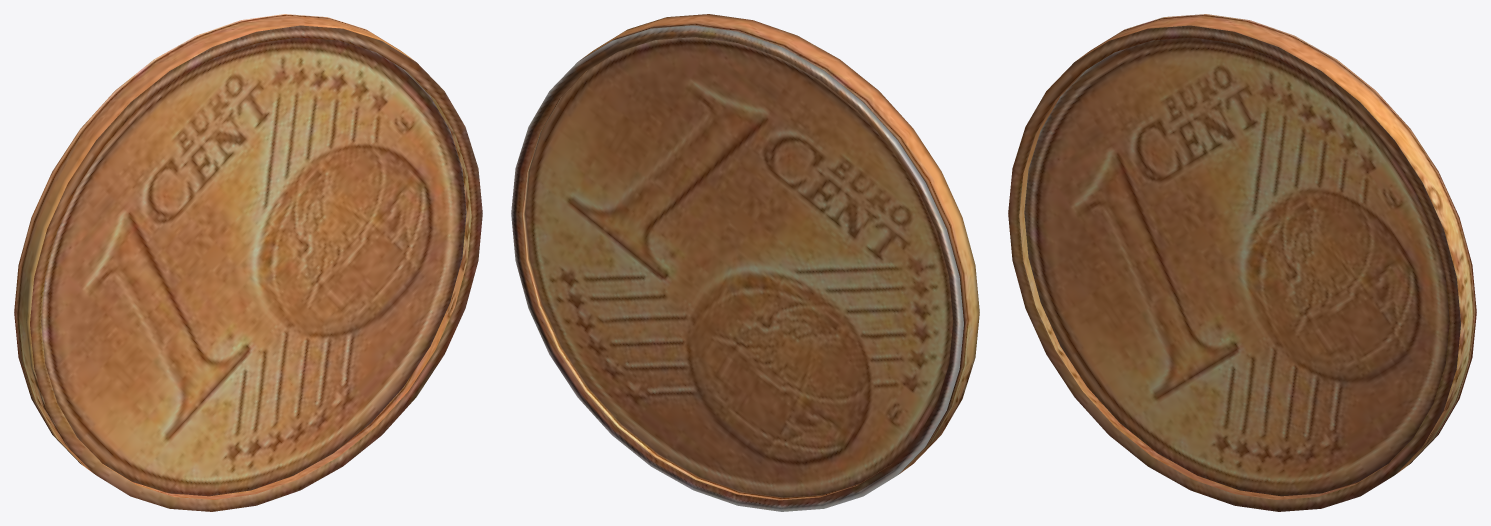
File: Cent.fbx
3 renders of one model, left to right at view 1: azimuth 30°, elevation 25°; view 2: azimuth 150°, elevation 25°; view 3: azimuth 330°, elevation 25°, orthographic.
Parts seen in each view (by area): view 1: Cylinder; view 2: Cylinder; view 3: Cylinder.
Boxes of the visible parts, x1,y1,x2,y2 form: Cylinder: [14, 14, 482, 511]; Cylinder: [511, 14, 979, 511]; Cylinder: [1008, 14, 1476, 511].
Size of the model in its own units: 200 by 200 by 12.06.
Materials: 1 (1 with a texture image).
